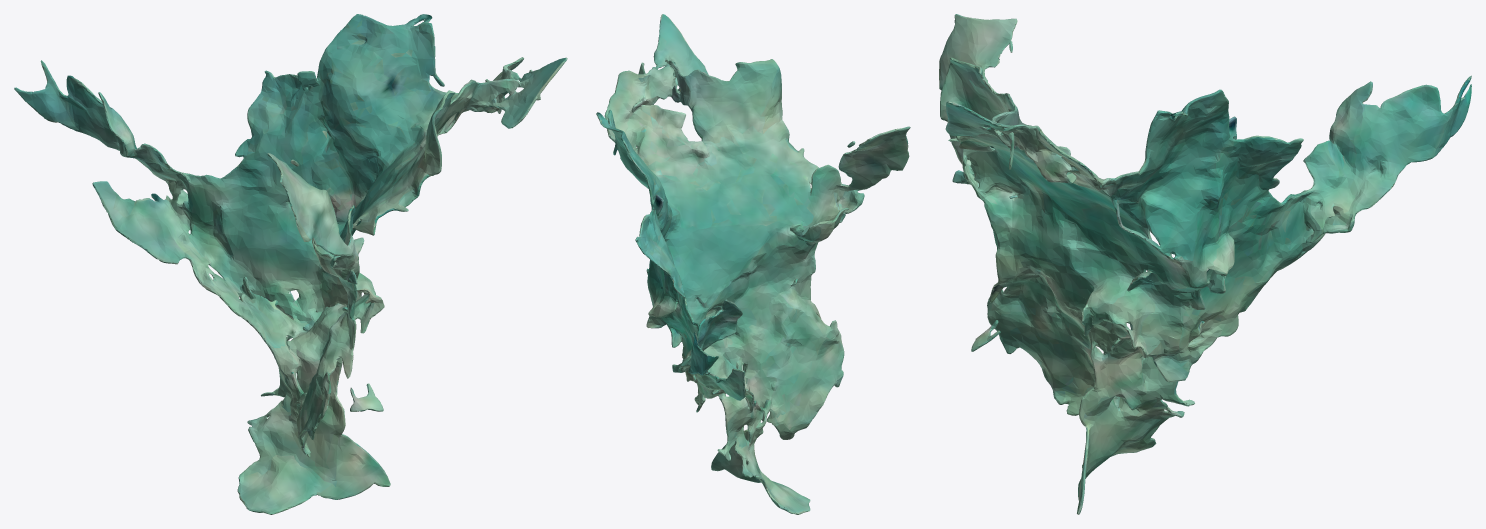
The model's file is riftshard_seam.glb.
3 views of the same model, side by side, from view 1: azimuth 30°, elevation 25°; view 2: azimuth 150°, elevation 25°; view 3: azimuth 270°, elevation 25° (orthographic). The views are drawn at different scales.
Parts seen in each view (by area): view 1: riftshard_seam; view 2: riftshard_seam; view 3: riftshard_seam.
Part boxes in pixels (x1,y1,x2,y2): riftshard_seam: [14, 14, 567, 514]; riftshard_seam: [596, 14, 910, 514]; riftshard_seam: [939, 14, 1471, 514].
Bounding box in the file's own units: 1.44 × 1.98 × 2.
1 material, 1 textured.
